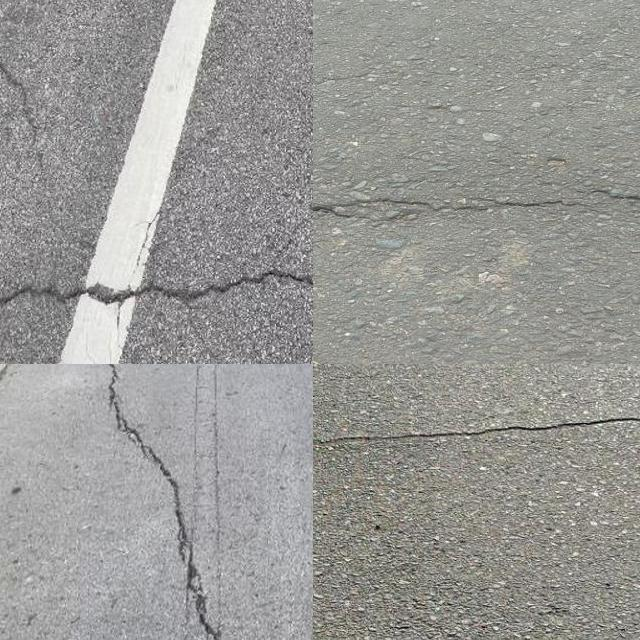Melintang: (313, 401, 640, 472), (0, 257, 313, 324), (313, 181, 640, 231)
Memanjang: (93, 364, 233, 640)
